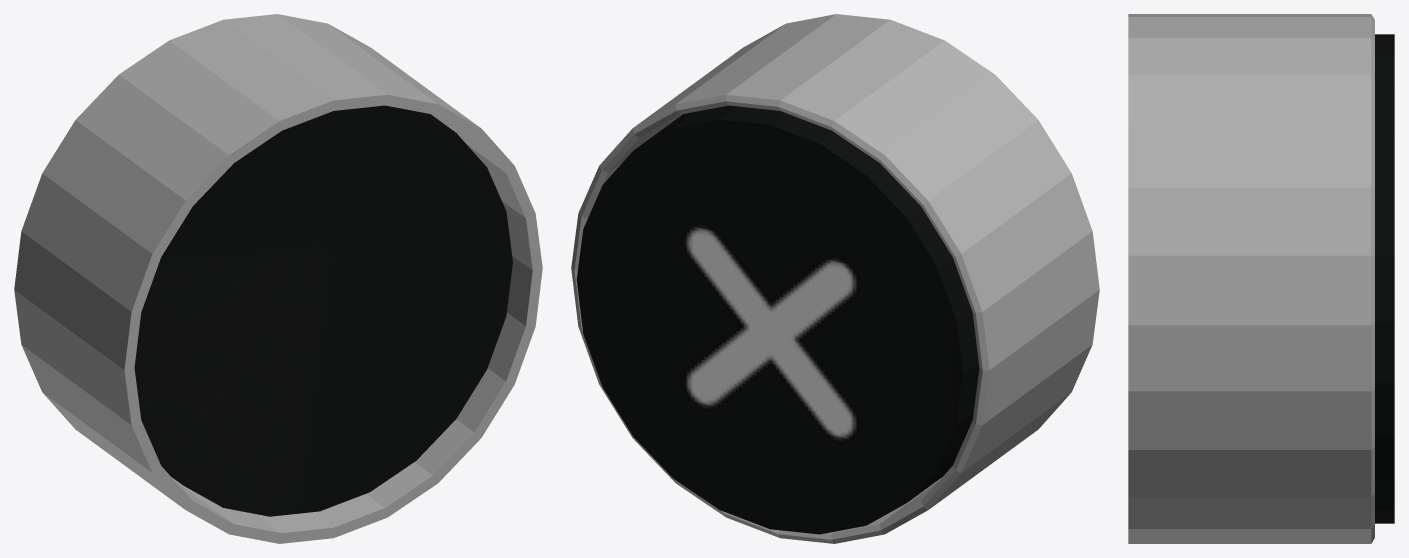
Rendered from tablet-home-button.fbx.
3 views of the same model, side by side, from view 1: azimuth 30°, elevation 25°; view 2: azimuth 150°, elevation 25°; view 3: azimuth 270°, elevation 25° (orthographic). The views are drawn at different scales.
Visible parts, largest first — view 1: Cylinder.001; view 2: Cylinder.001; view 3: Cylinder.001.
Boxes of the visible parts, x1=… form: Cylinder.001: x1=14, y1=14, x2=542, y2=543; Cylinder.001: x1=571, y1=14, x2=1099, y2=543; Cylinder.001: x1=1128, y1=14, x2=1394, y2=543.
Bounding box in the file's own units: 4 × 4 × 2.
2 materials, 1 textured.
